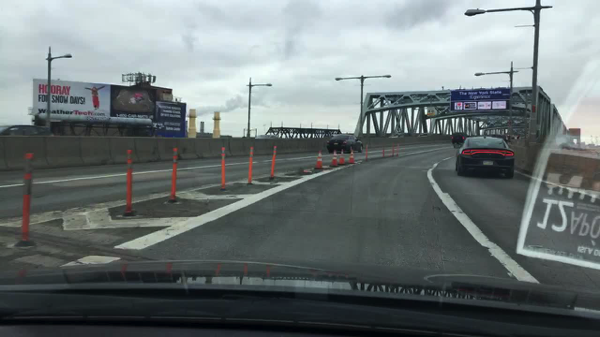car: (455, 136, 515, 177), (326, 134, 365, 154), (1, 124, 49, 137), (452, 131, 466, 143), (256, 134, 278, 141), (492, 133, 510, 141), (390, 132, 406, 138), (417, 133, 431, 138)
traffic sign: (448, 88, 509, 113)
